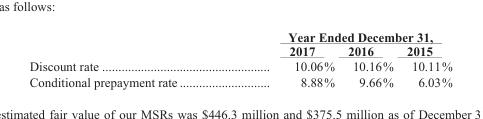table: (28, 29, 451, 88)
table column: (28, 29, 231, 88), (231, 29, 340, 88), (340, 29, 399, 88), (399, 29, 451, 88)
table column header: (28, 29, 451, 58)
table row: (28, 43, 451, 58), (28, 58, 451, 73), (28, 73, 451, 88), (28, 29, 451, 43)
table spanning cell: (231, 29, 451, 43)
